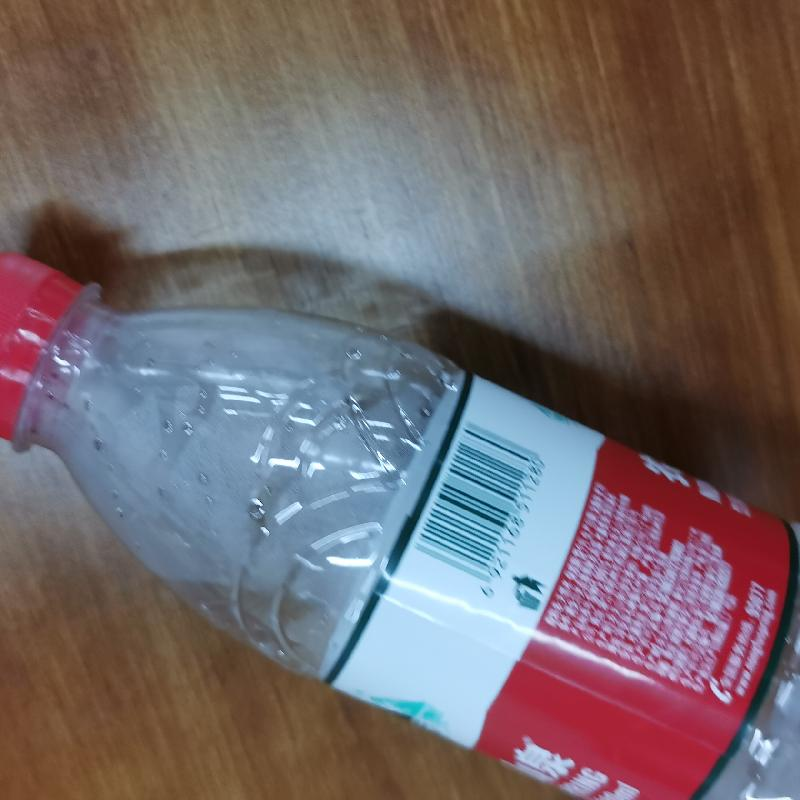bottles: (0, 236, 799, 799)
